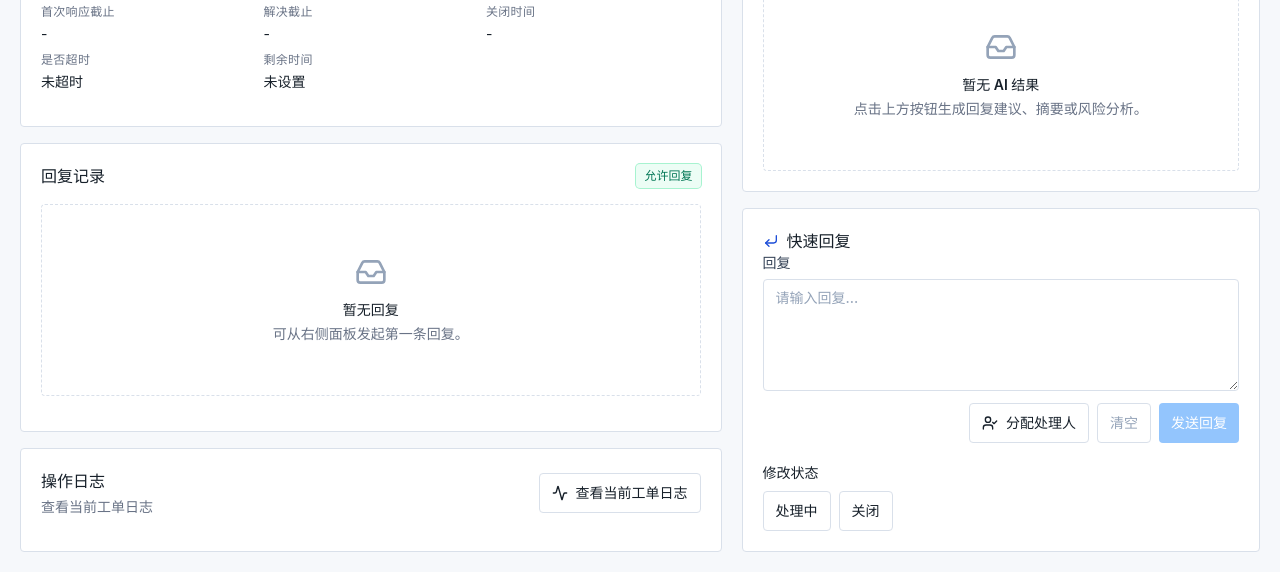
Scenario: TicketAiAssistantPanel › loads current ticket logs from the ticket detail page
(page scrolled)
Click the button "查看当前工单日志" at [620, 493], box [538,473,700,513]
(page scrolled)
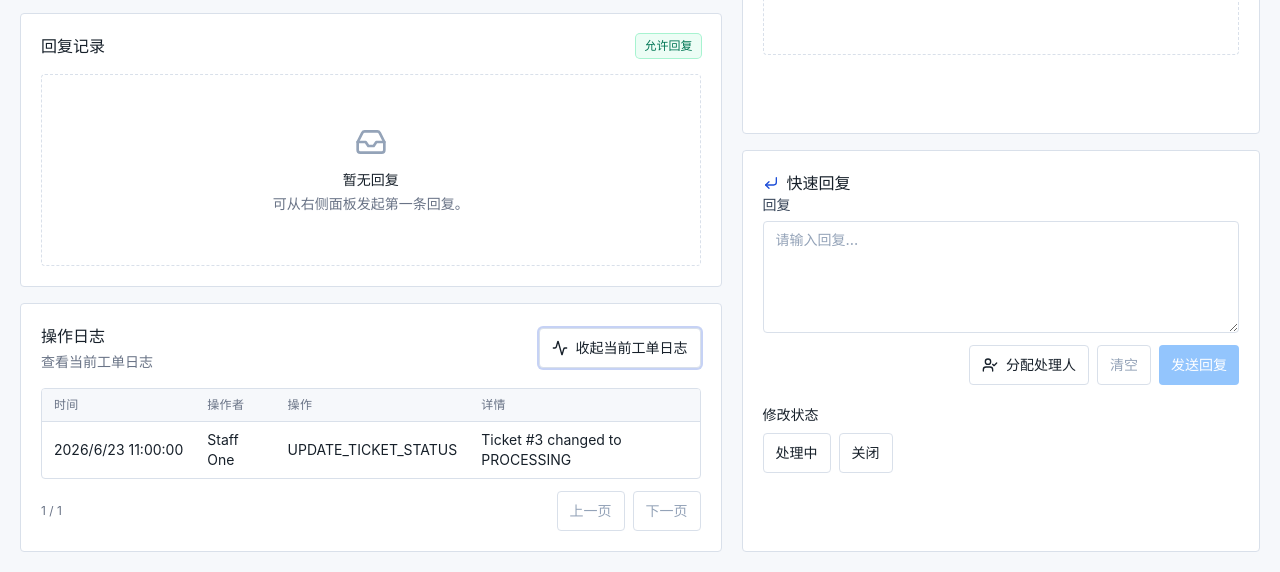
Now the text "UPDATE_TICKET_STATUS" is shown, box [276,422,469,478]
Now the text "Ticket #3 changed to PROCESSING" is shown, box [469,422,700,478]
